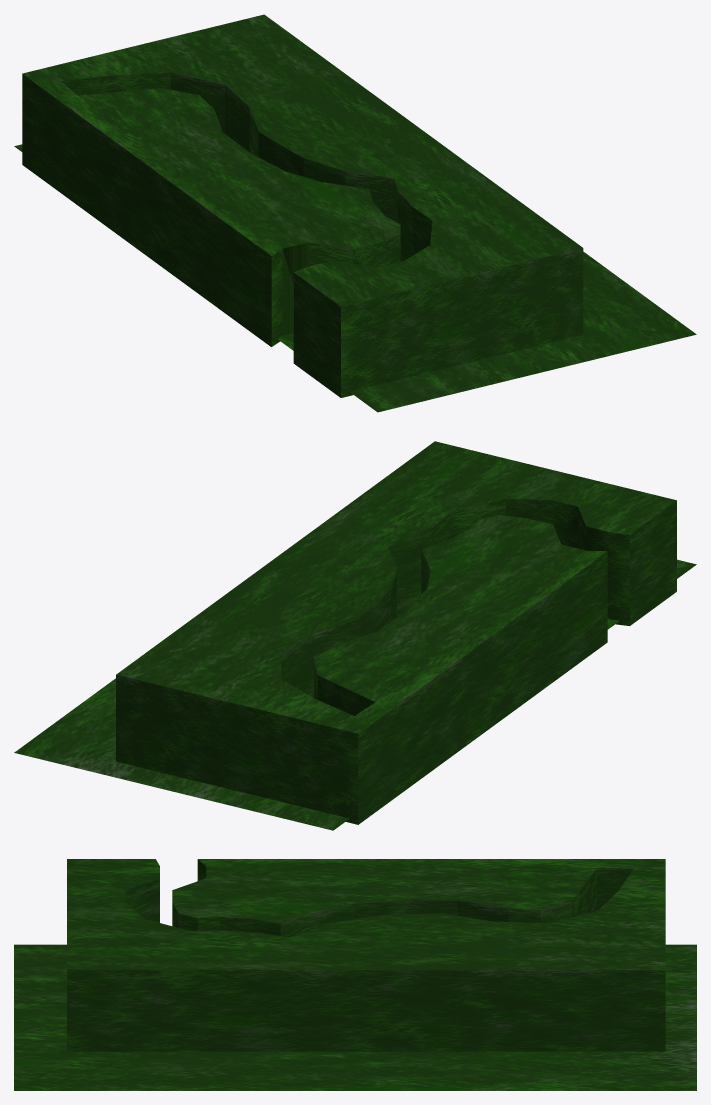
The model's file is Green.FBX.
3 views of the same model, one above another, from view 1: azimuth 30°, elevation 25°; view 2: azimuth 150°, elevation 25°; view 3: azimuth 270°, elevation 25° (orthographic). The views are drawn at different scales.
Parts seen in each view (by area): view 1: Plane001; view 2: Plane001; view 3: Plane001.
Part boxes in pixels (x1,y1,x2,y2): Plane001: (14,14,696,412); Plane001: (14,441,696,830); Plane001: (14,859,696,1090).
Bounding box in the file's own units: 234 × 62.3 × 450.
